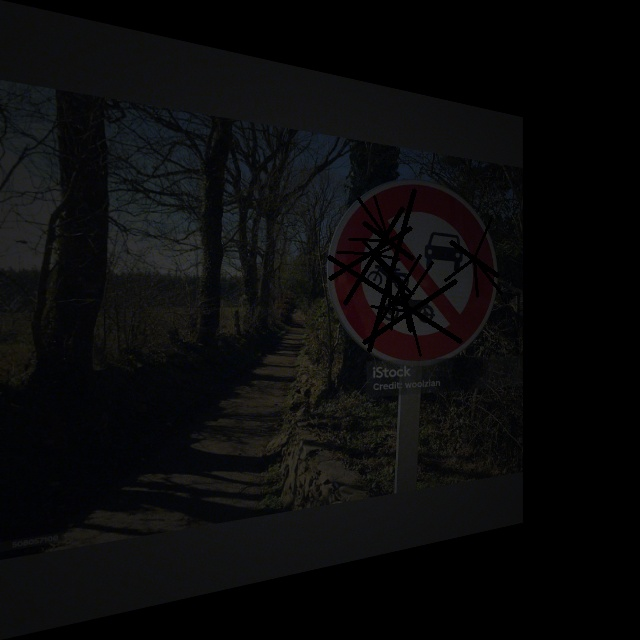All_Motor_Vehicles_Prohibited: (329, 167, 498, 363)
